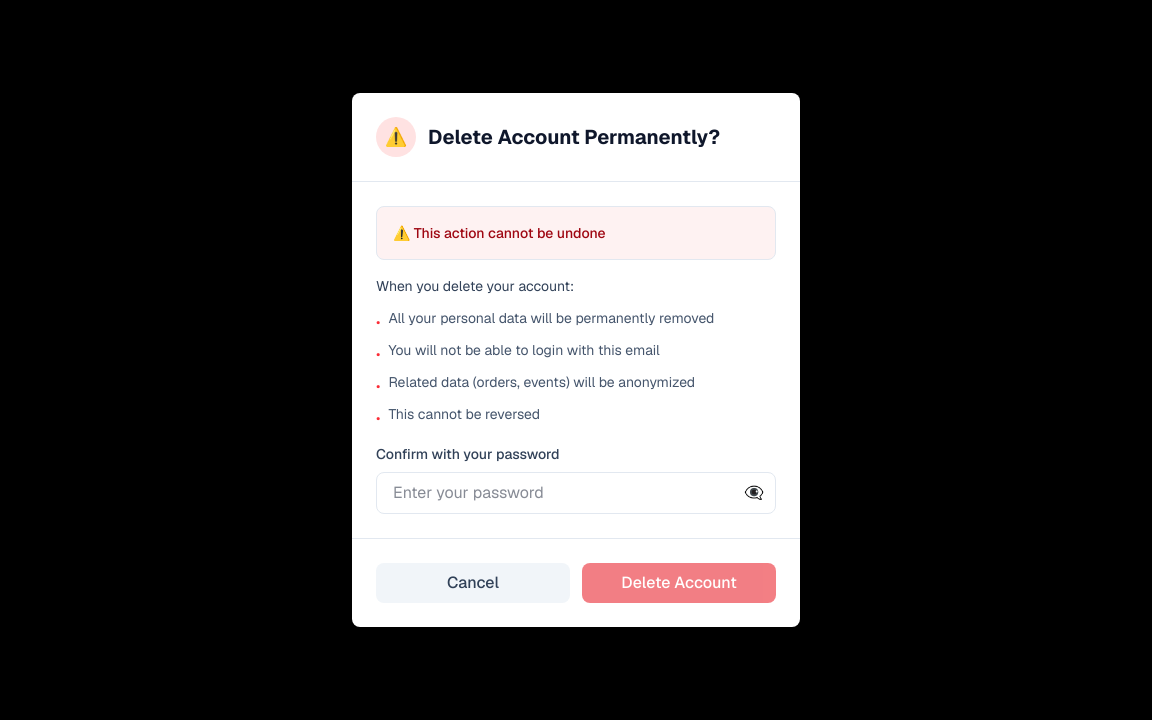
Test: DeleteAccountModal › should handle API errors
Type "wrongpassword" into the password field with placeholder "Enter your password".
click(576, 493); type("wrongpassword")  # box top-left (376, 472), bottom-right (776, 514)
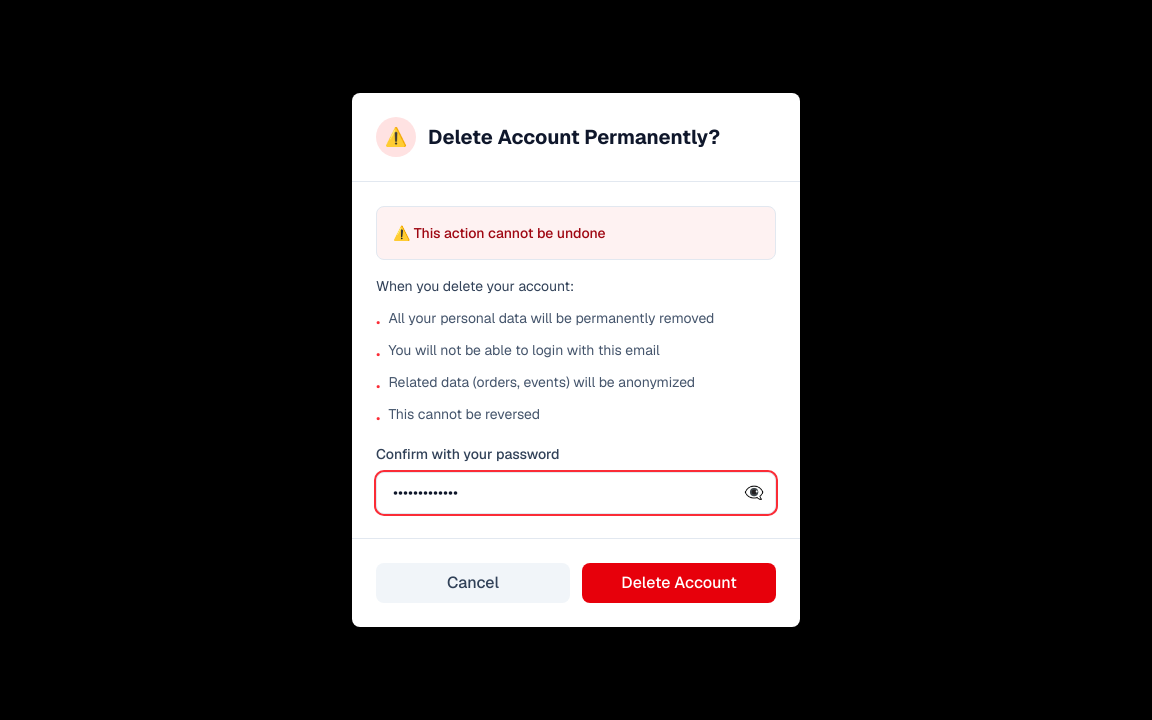
Click the button "Delete Account".
click(679, 583)  # box top-left (582, 563), bottom-right (776, 603)
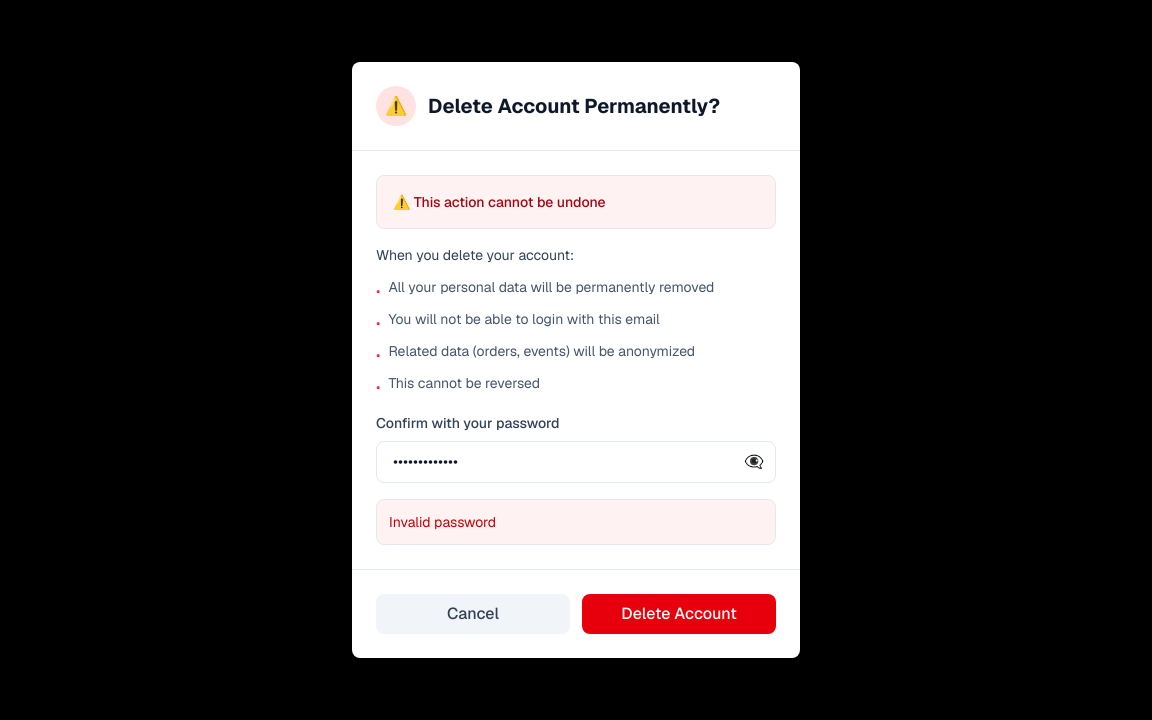
Expected: the text "Invalid password" is shown, top-left (389, 513), bottom-right (496, 531)
